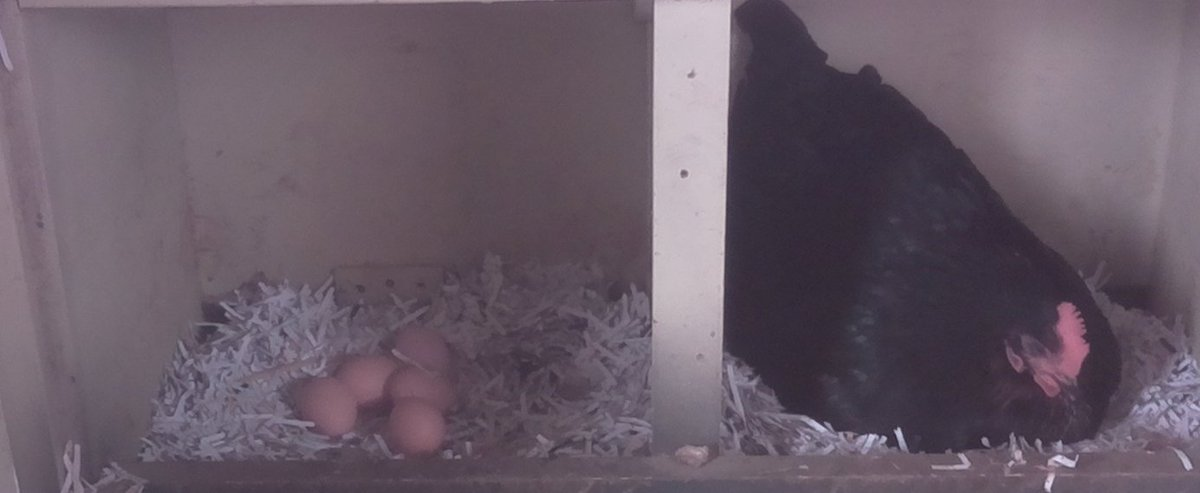egg: (292, 370, 363, 442), (380, 365, 465, 418), (378, 397, 451, 456), (388, 320, 457, 380), (340, 347, 399, 413)
hen: (731, 3, 1124, 449)
